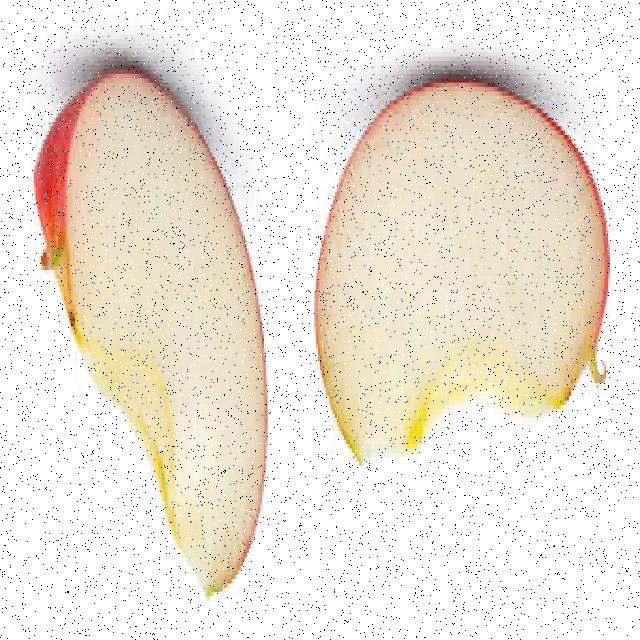Apple: (34, 64, 268, 598), (314, 78, 608, 472)
